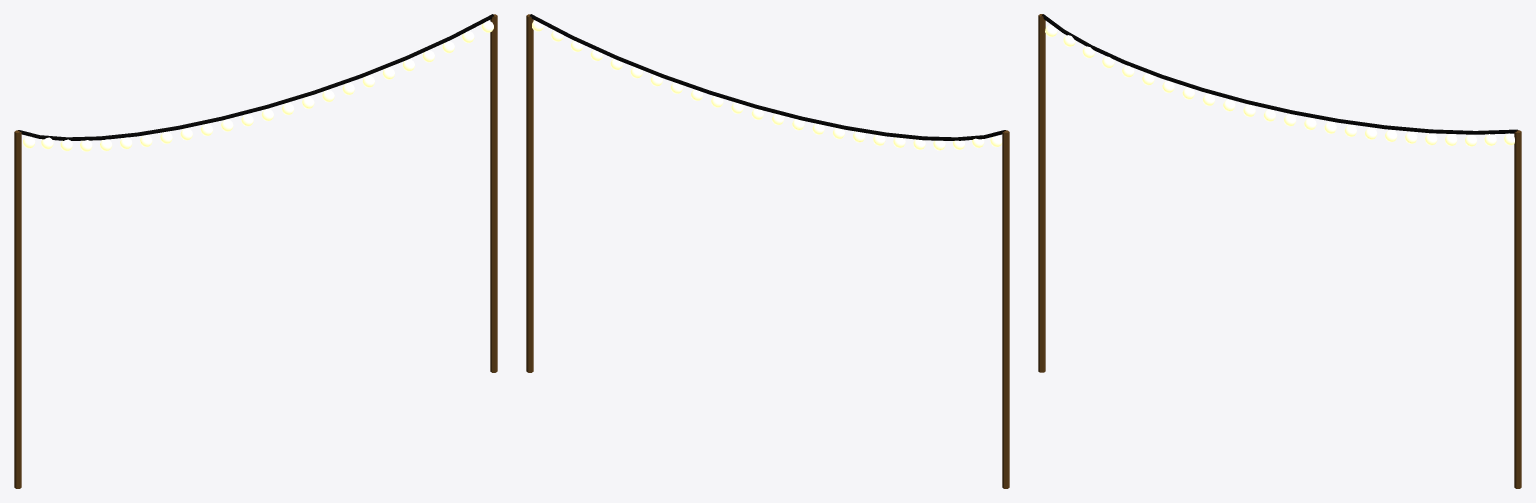
Rendered from Lights.glb.
The picture shows the model from 3 angles, left to right: view 1: azimuth 30°, elevation 25°; view 2: azimuth 150°, elevation 25°; view 3: azimuth 330°, elevation 25°; orthographic projection.
Parts seen in each view (by area): view 1: Flags; view 2: Flags; view 3: Flags.
Boxes of the visible parts, bbox=[...] form: Flags: bbox=[14, 14, 497, 488]; Flags: bbox=[526, 14, 1009, 488]; Flags: bbox=[1038, 14, 1521, 488].
Size of the model in its own units: 2.83 by 2.01 by 0.0646.
